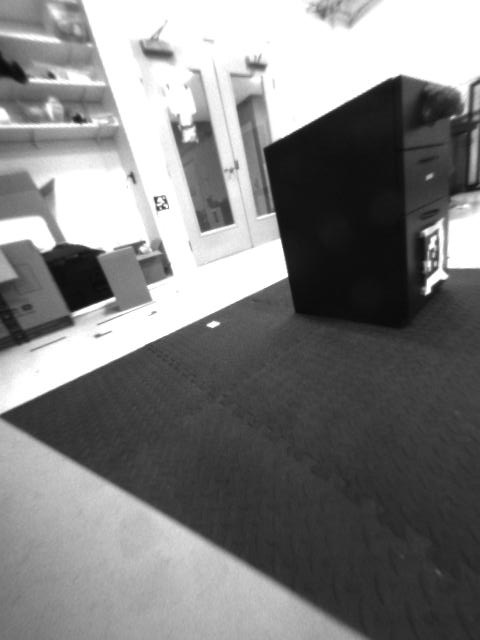door_handle: (218, 164, 238, 179)
drawer: (422, 74, 468, 133)
